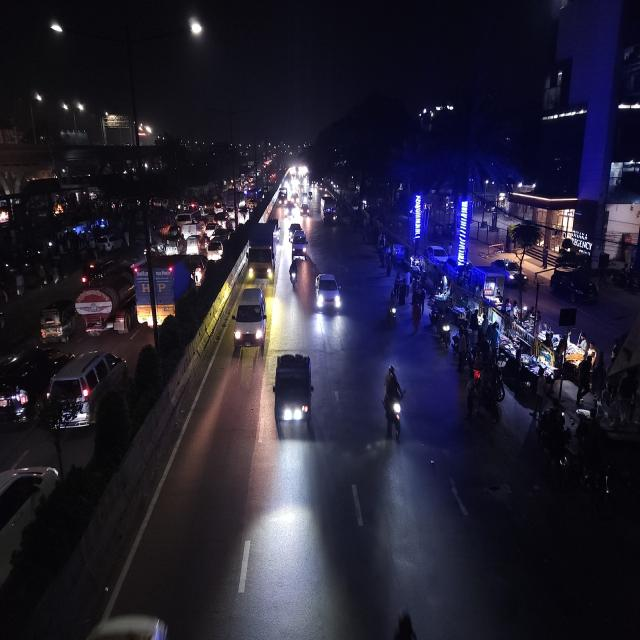bus: (320, 191, 338, 226)
car: (0, 456, 61, 635), (44, 345, 130, 433), (0, 344, 46, 432), (232, 283, 268, 354), (311, 269, 342, 317), (190, 253, 208, 293), (205, 236, 227, 262), (175, 212, 199, 234), (290, 230, 308, 259), (214, 213, 230, 230), (204, 222, 218, 236), (284, 201, 296, 217), (300, 203, 311, 218), (238, 208, 248, 224)
cng: (38, 297, 76, 345), (164, 231, 186, 255), (185, 232, 202, 255)
motorcycle: (379, 362, 406, 442), (385, 605, 431, 640), (386, 288, 399, 330), (288, 254, 299, 291)
pedestrian: (409, 278, 426, 334), (12, 270, 26, 300), (398, 278, 408, 307), (383, 248, 393, 276)
pickup_van: (270, 348, 318, 436)
truck: (130, 253, 190, 329), (74, 275, 132, 337), (246, 219, 280, 284)
